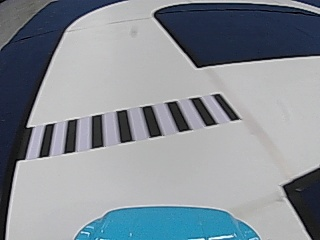CrossWalk: (34, 93, 241, 158)
